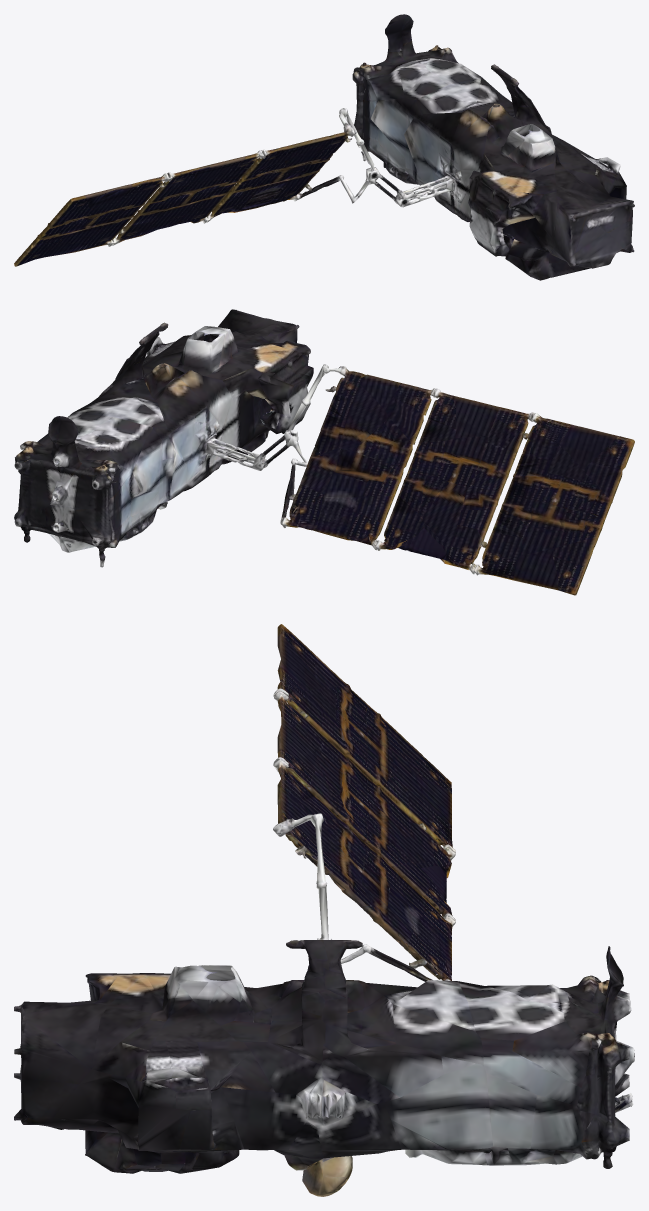
Rendered from sentinel3-low.glb.
The picture shows the model from 3 angles, top to bottom: view 1: azimuth 30°, elevation 25°; view 2: azimuth 150°, elevation 25°; view 3: azimuth 270°, elevation 25°; orthographic projection. The views are drawn at different scales.
Bounding box in the file's own units: 1.9 × 0.6163 × 1.35.
Materials: 1 (1 with a texture image).
